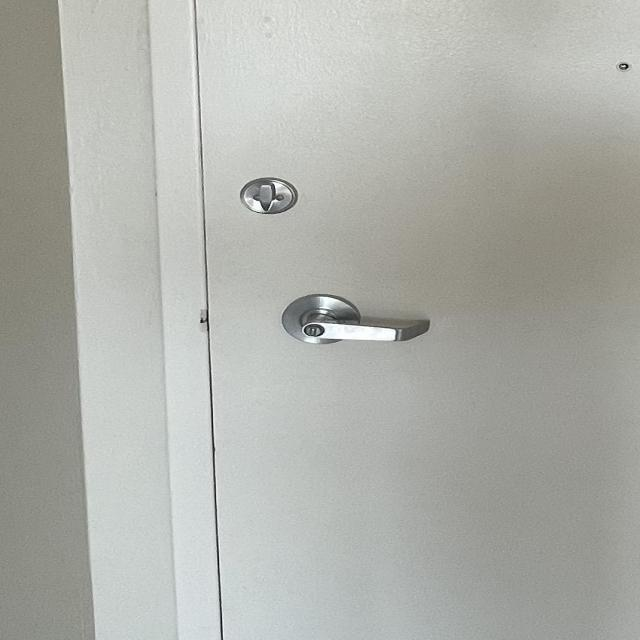door_handle: (266, 308, 453, 362)
